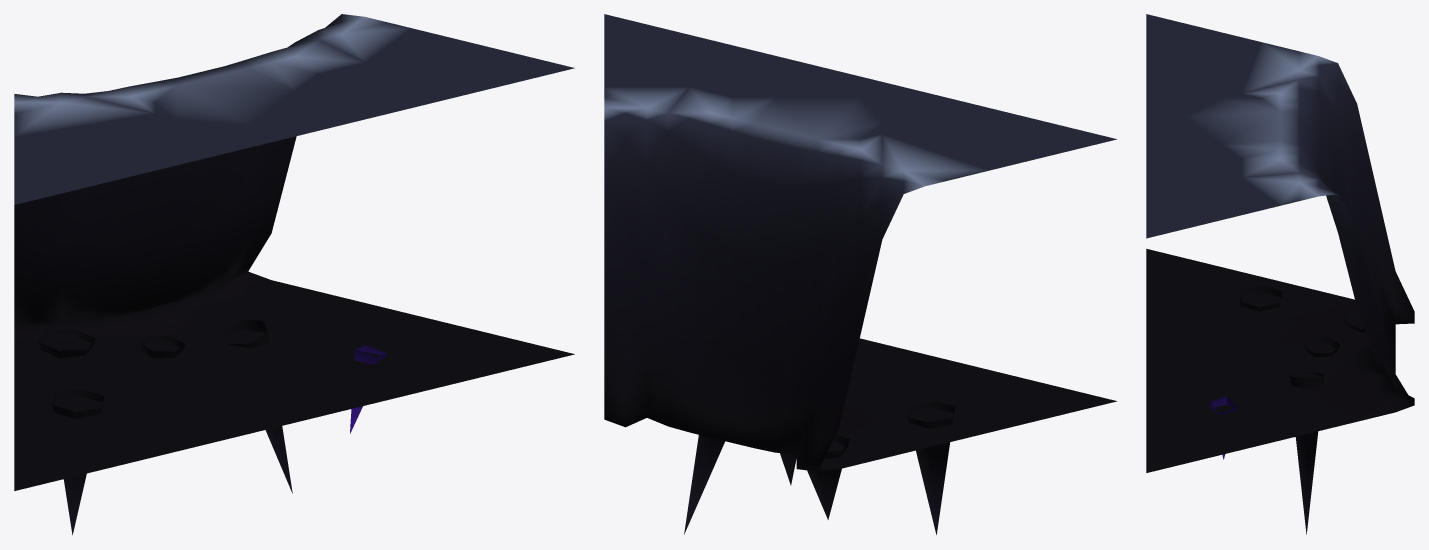
The model's file is MODULE_HOLLOW_SHORT_IN.fbx.
3 renders of one model, left to right at view 1: azimuth 30°, elevation 25°; view 2: azimuth 150°, elevation 25°; view 3: azimuth 270°, elevation 25°, orthographic. The views are drawn at different scales.
Parts seen in each view (by area): view 1: MODULE_HOLLOW_SHORT_IN__export, MODULE_HOLLOW_SHORT_IN_DECOR__export; view 2: MODULE_HOLLOW_SHORT_IN__export, MODULE_HOLLOW_SHORT_IN_DECOR__export; view 3: MODULE_HOLLOW_SHORT_IN__export, MODULE_HOLLOW_SHORT_IN_DECOR__export.
Boxes of the visible parts, <box> form: MODULE_HOLLOW_SHORT_IN__export: <box>14,14,574,490</box>; MODULE_HOLLOW_SHORT_IN_DECOR__export: <box>38,320,387,534</box>; MODULE_HOLLOW_SHORT_IN__export: <box>604,14,1116,471</box>; MODULE_HOLLOW_SHORT_IN_DECOR__export: <box>684,401,955,534</box>; MODULE_HOLLOW_SHORT_IN__export: <box>1146,14,1414,472</box>; MODULE_HOLLOW_SHORT_IN_DECOR__export: <box>1210,285,1365,534</box>.
Bounding box in the file's own units: 100 × 77.14 × 50.52.
